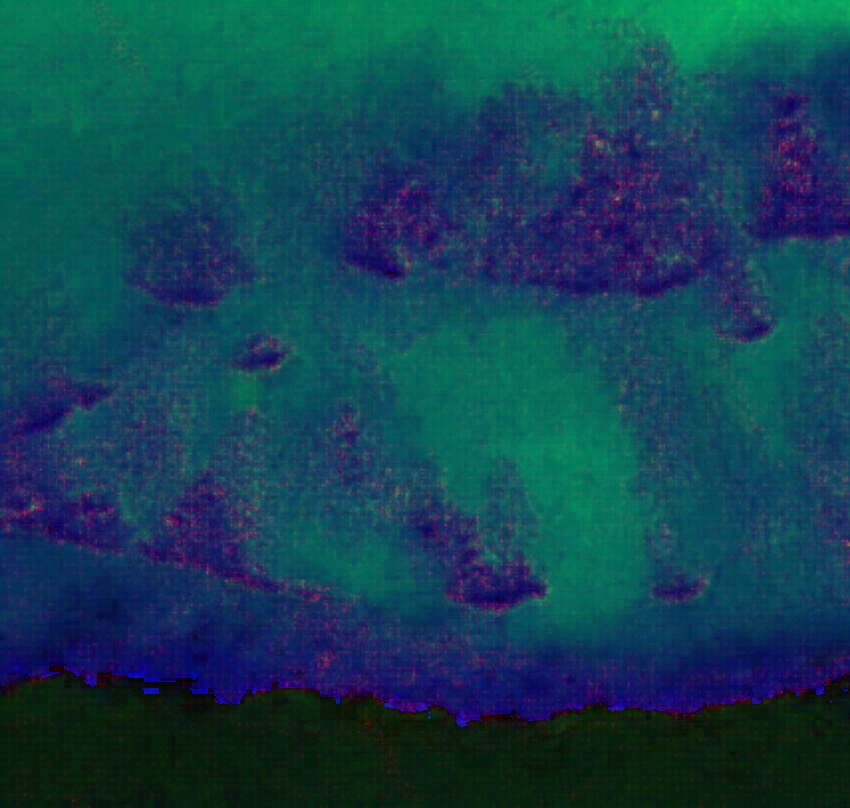rip_current: (370, 228, 665, 640)
